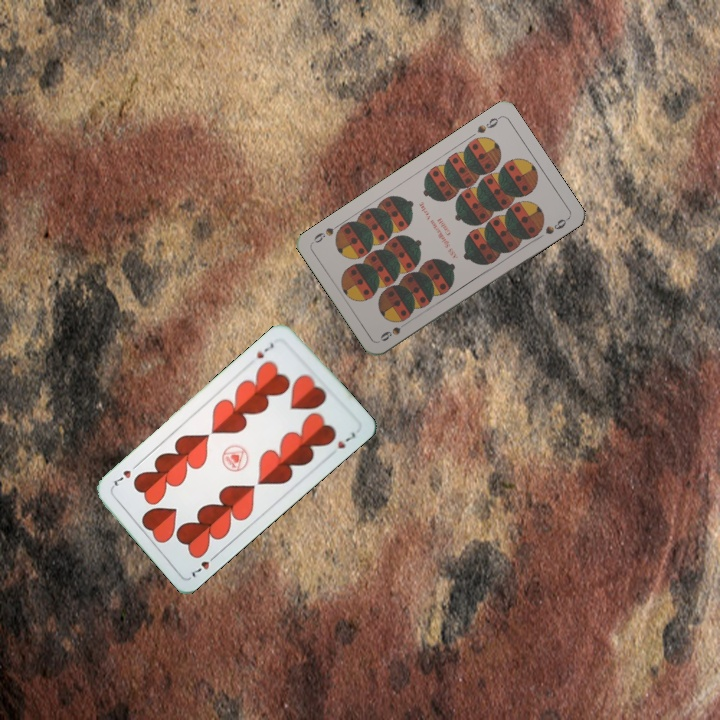H7: (188, 550, 220, 580), (252, 338, 276, 361)
S9: (376, 317, 412, 344), (473, 112, 503, 136)
